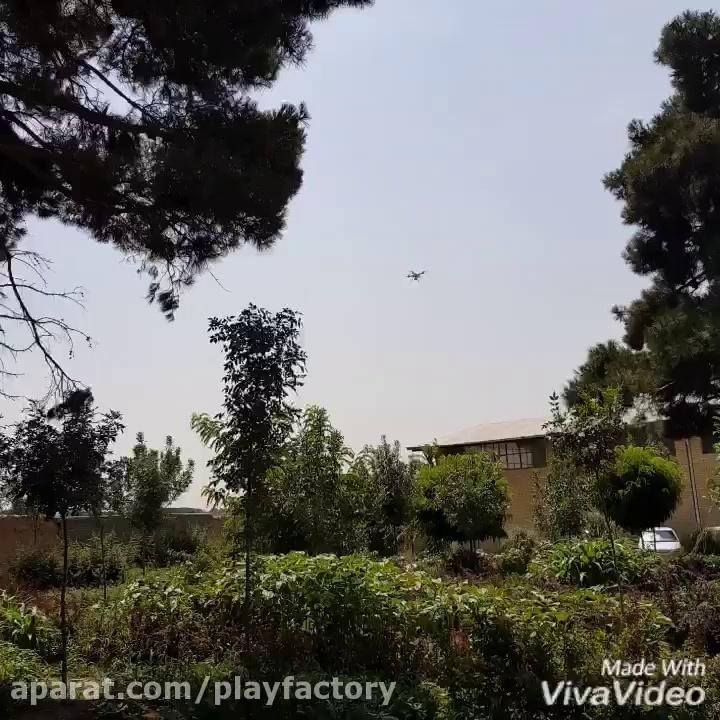drone: (404, 262, 426, 285)
